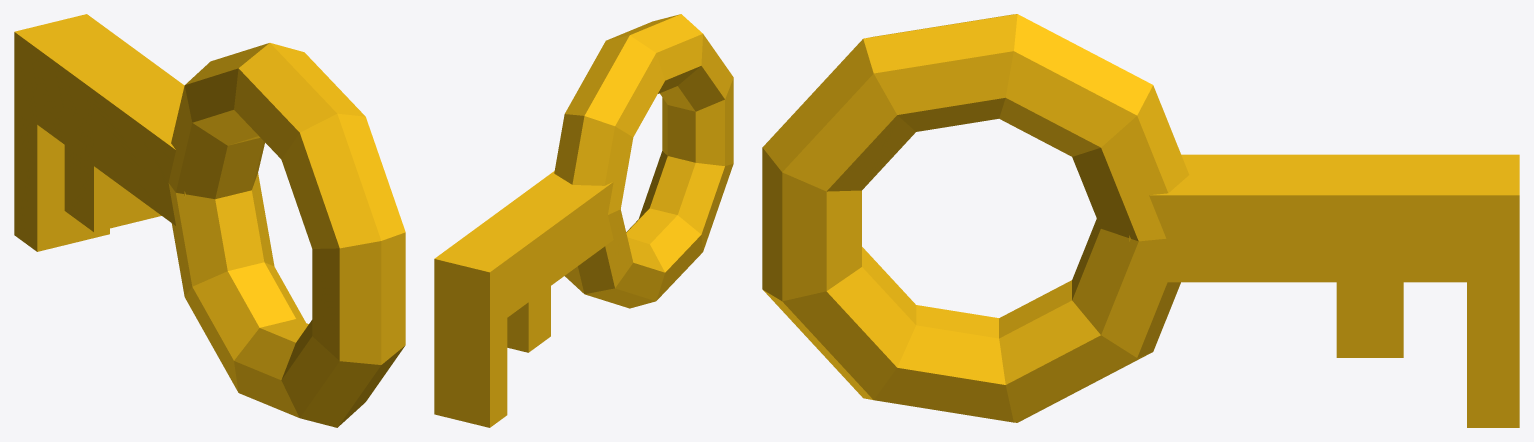
File: key.fbx
3 views of the same model, side by side, from view 1: azimuth 30°, elevation 25°; view 2: azimuth 150°, elevation 25°; view 3: azimuth 270°, elevation 25° (orthographic). The views are drawn at different scales.
Parts seen in each view (by area): view 1: ball, Cube; view 2: ball, Cube; view 3: ball, Cube.
Part boxes in pixels (x1=…): ball: x1=168, y1=43, x2=405, y2=427; Cube: x1=14, y1=14, x2=257, y2=251; ball: x1=554, y1=14, x2=733, y2=308; Cube: x1=434, y1=171, x2=613, y2=427; ball: x1=762, y1=14, x2=1189, y2=422; Cube: x1=1129, y1=154, x2=1519, y2=427.
Bounding box in the file's own units: 22.62 × 93.96 × 158.
